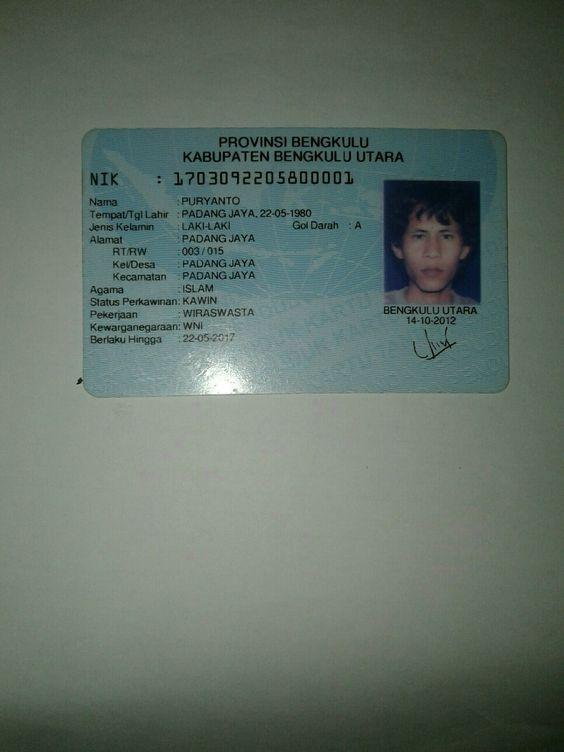ID-card: (83, 131, 505, 389)
